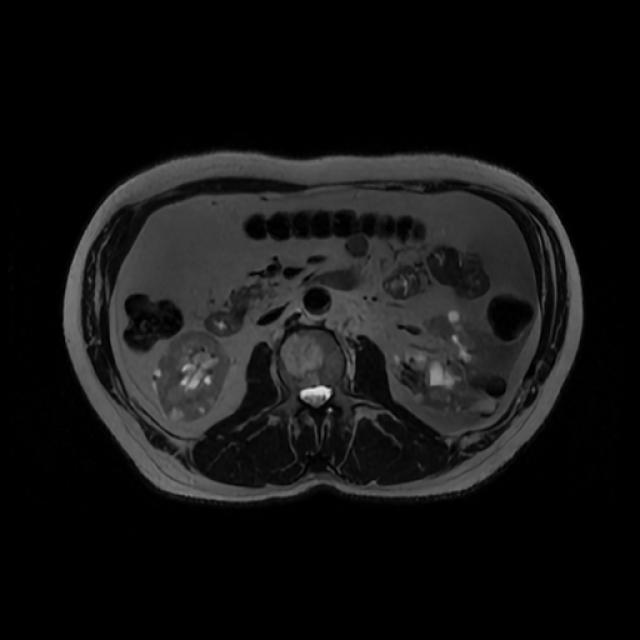sag: (153, 334, 230, 420)
sol: (399, 309, 506, 412)
